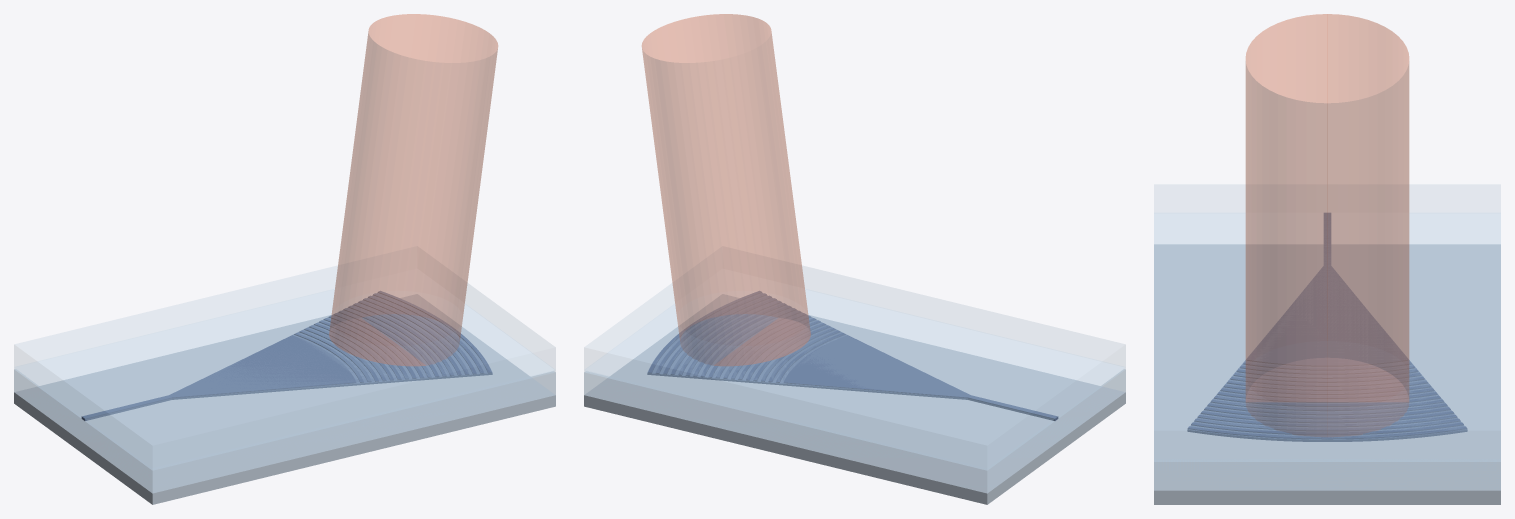
The model's file is stack-gc.glb.
The picture shows the model from 3 angles, left to right: view 1: azimuth 30°, elevation 25°; view 2: azimuth 150°, elevation 25°; view 3: azimuth 270°, elevation 25°; orthographic projection. The views are drawn at different scales.
Visible parts, largest first — view 1: cladd, beam, sisub, siwg, box; view 2: cladd, beam, sisub, siwg, box; view 3: beam, sisub, cladd, siwg, box.
Boxes of the visible parts, x1,y1,x2,y2 form: cladd: [14, 266, 555, 469]; beam: [329, 14, 498, 365]; sisub: [14, 294, 555, 504]; siwg: [81, 291, 492, 420]; box: [14, 369, 555, 493]; cladd: [584, 266, 1125, 469]; beam: [641, 14, 810, 365]; sisub: [584, 294, 1125, 504]; siwg: [647, 291, 1058, 420]; box: [584, 369, 1125, 493]; beam: [1245, 14, 1409, 436]; sisub: [1154, 244, 1500, 504]; cladd: [1154, 185, 1500, 461]; siwg: [1187, 213, 1467, 441]; box: [1154, 459, 1500, 490].
Bounding box in the file's own units: 37.27 × 29.69 × 22.
